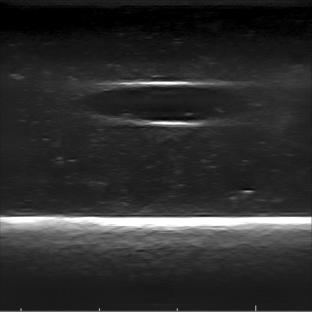vessel: (84, 80, 241, 128)
